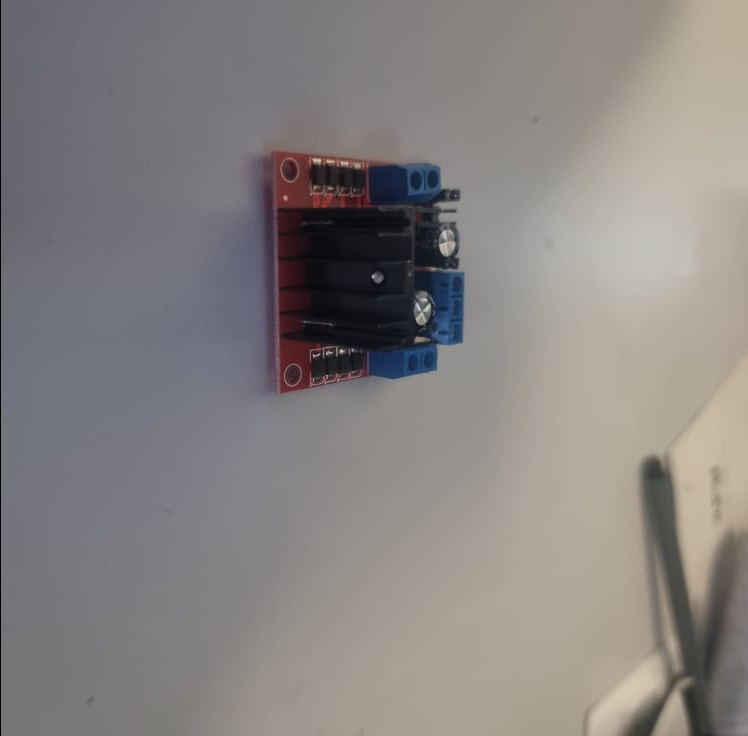MOTOR: (269, 153, 468, 394)
